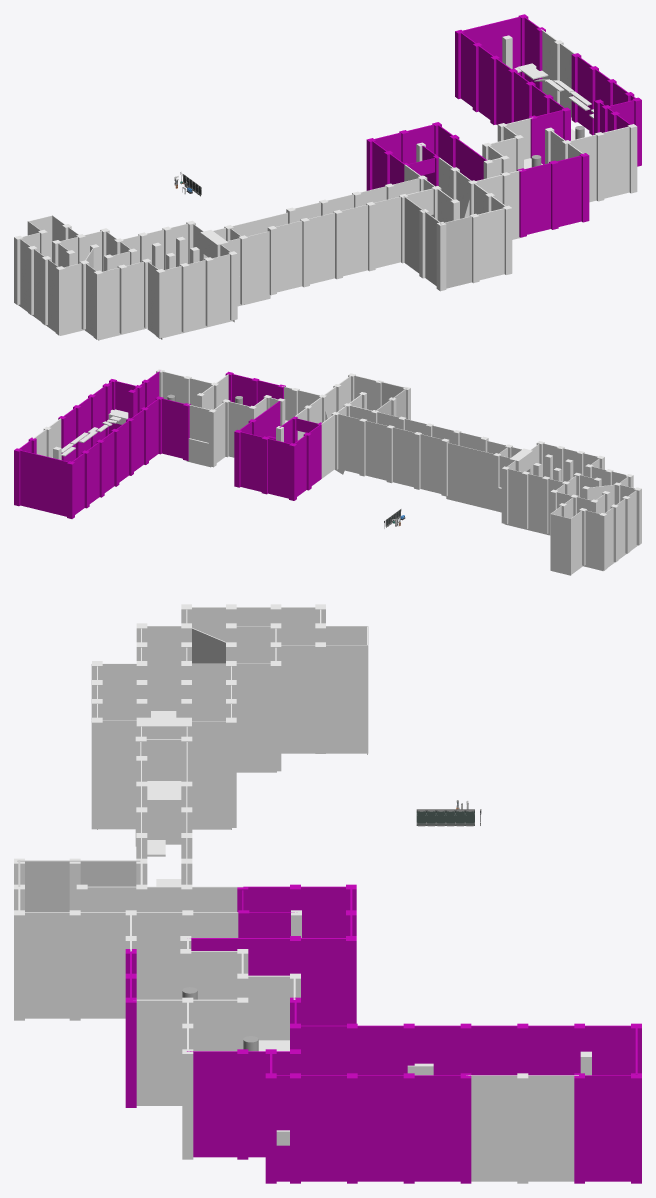
File: Stage3.fbx
3 views of the same model, one above another, from view 1: azimuth 30°, elevation 25°; view 2: azimuth 150°, elevation 25°; view 3: azimuth 270°, elevation 25° (orthographic). The views are drawn at different scales.
Parts seen in each view (by area): view 1: wall__24_.002, Cube.003, wall__133_.001, wall__70_.001, wall__108_.001, wall__110_.001, wall__174_, wall__79_.002, wall__24_.001, wall__37_, wall__64_, wall__30_ (+52 smaller); view 2: wall__24_.001, wall__102_, wall__174_, wall__85_.001, wall__83_.001, wall__145_, wall__3_, wall__24_.002, wall__23_, wall__63_, wall__65_, wall__25_.001 (+54 smaller); view 3: wall__142_.001, wall__161_, wall__162_, wall__144_.001, wall__154_, wall__123_.001, wall__169_, wall__54_.001, wall__48_.001, wall__138_.001, wall__2_, wall__72_.001 (+54 smaller).
Boxes of the visible parts, x1,y1,x2,y2 form: wall__24_.002: (272, 195, 403, 292); Cube.003: (440, 215, 474, 288); wall__133_.001: (600, 126, 629, 198); wall__70_.001: (478, 208, 504, 279); wall__108_.001: (523, 162, 553, 234); wall__110_.001: (554, 155, 583, 226); wall__174_: (460, 16, 521, 75); wall__79_.002: (244, 231, 270, 304); wall__24_.001: (288, 178, 419, 221); wall__37_: (98, 267, 122, 340); wall__64_: (184, 260, 209, 332); wall__30_: (60, 263, 84, 335); wall__24_.001: (338, 414, 442, 493); wall__102_: (446, 443, 495, 510); wall__174_: (19, 450, 70, 516); wall__85_.001: (239, 431, 263, 491); wall__83_.001: (267, 438, 291, 498); wall__145_: (160, 398, 184, 458); wall__3_: (550, 514, 571, 575); wall__24_.002: (376, 411, 486, 450); wall__23_: (583, 510, 602, 570); wall__63_: (525, 473, 545, 534); wall__65_: (504, 469, 524, 529); wall__25_.001: (321, 414, 334, 478); wall__142_.001: (270, 1075, 351, 1181); wall__161_: (466, 1075, 522, 1181); wall__162_: (523, 1075, 578, 1181); wall__144_.001: (353, 1075, 407, 1181); wall__154_: (414, 1075, 465, 1181); wall__123_.001: (136, 999, 186, 1105); wall__169_: (580, 1075, 635, 1181); wall__54_.001: (80, 912, 132, 1018); wall__48_.001: (19, 912, 74, 1018); wall__138_.001: (187, 1051, 241, 1157); wall__2_: (326, 645, 368, 753); wall__72_.001: (136, 912, 186, 999).
Bounding box in the file's own units: 111277 × 12788 × 61873.
